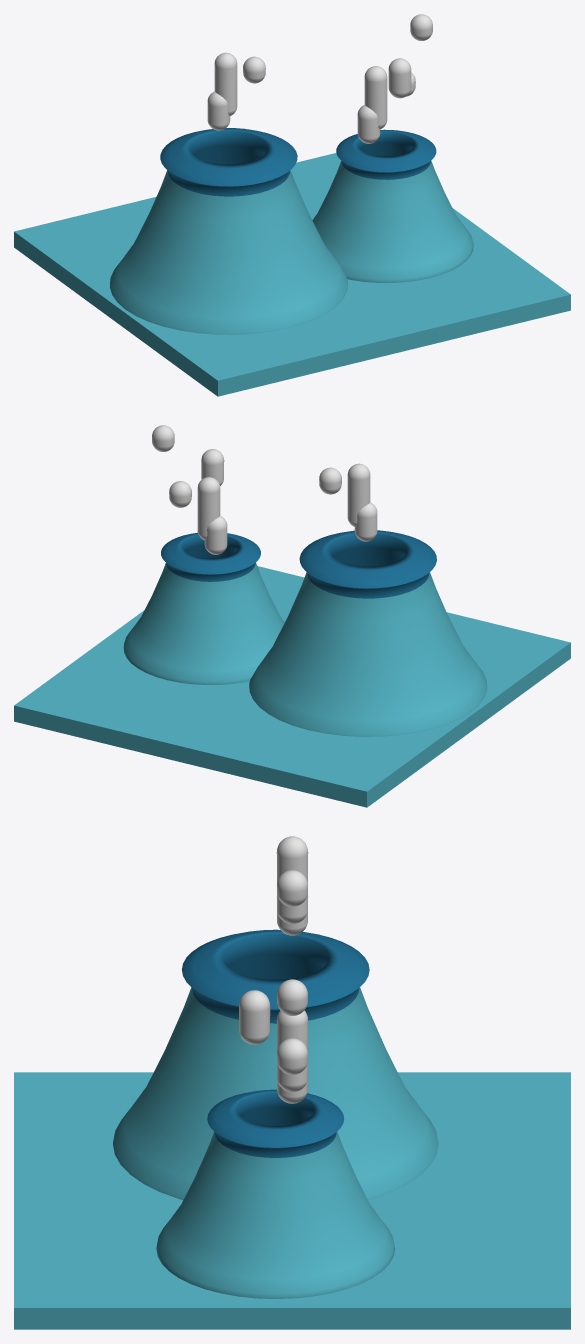
File: factory_building-7.gltf
The picture shows the model from 3 angles, top to bottom: view 1: azimuth 30°, elevation 25°; view 2: azimuth 150°, elevation 25°; view 3: azimuth 270°, elevation 25°; orthographic projection. The views are drawn at different scales.
Visible parts, largest first — view 1: pCube7, pCylinder5, pCylinder7, pSphere24, pSphere27, pSphere20, pSphere26, pSphere23, pSphere22, pSphere28; view 2: pCube7, pCylinder5, pCylinder7, pSphere24, pSphere27, pSphere26, pSphere23, pSphere20, pSphere25, pSphere22, pSphere28; view 3: pCube7, pCylinder5, pCylinder7, pSphere27, pSphere20, pSphere24, pSphere28, pSphere22, pSphere25.
Boxes of the visible parts, box(x1,y1,x2,y2) form: pCube7: box(14, 153, 570, 396); pCylinder5: box(110, 128, 347, 334); pCylinder7: box(312, 129, 473, 282); pSphere24: box(364, 66, 387, 129); pSphere27: box(214, 52, 237, 115); pSphere20: box(388, 58, 411, 98); pSphere26: box(207, 91, 230, 130); pSphere23: box(357, 105, 380, 143); pSphere22: box(410, 14, 432, 40); pSphere28: box(243, 56, 265, 83); pCube7: box(14, 566, 570, 807); pCylinder5: box(249, 530, 487, 736); pCylinder7: box(123, 532, 284, 684); pSphere24: box(197, 477, 220, 540); pSphere27: box(347, 463, 370, 526); pSphere26: box(354, 502, 377, 541); pSphere23: box(204, 516, 227, 554); pSphere20: box(201, 449, 224, 485); pSphere25: box(169, 481, 191, 507); pSphere22: box(152, 425, 174, 451); pSphere28: box(319, 467, 341, 494); pCube7: box(14, 1072, 570, 1329); pCylinder5: box(113, 929, 438, 1200); pCylinder7: box(156, 1089, 395, 1298); pSphere27: box(276, 836, 308, 923); pSphere20: box(239, 990, 270, 1044); pSphere24: box(276, 1010, 308, 1092); pSphere28: box(277, 870, 307, 906); pSphere22: box(277, 979, 307, 1015); pSphere25: box(277, 1038, 307, 1074).
Bounding box in the file's own units: 1.47 × 0.9868 × 1.47.
